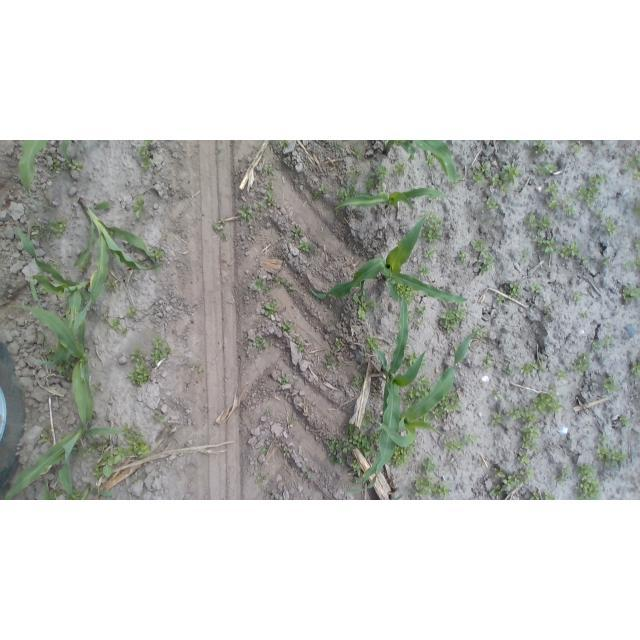Maize: (355, 329, 477, 483), (347, 296, 426, 492), (308, 214, 470, 302), (8, 297, 93, 428), (16, 227, 90, 366), (75, 197, 162, 312), (6, 427, 123, 500), (382, 140, 456, 181), (19, 141, 70, 196), (334, 188, 452, 210), (45, 479, 92, 500)
Weeds: (488, 465, 533, 496), (597, 434, 627, 467), (576, 464, 601, 501), (349, 424, 377, 456), (441, 307, 467, 334), (532, 392, 565, 413), (353, 294, 377, 320), (404, 386, 432, 406), (424, 213, 441, 243), (151, 337, 169, 365), (101, 449, 118, 478), (573, 350, 591, 376), (577, 186, 599, 207), (327, 439, 348, 461), (128, 437, 150, 456), (131, 365, 150, 387), (395, 283, 413, 306), (533, 162, 558, 177), (621, 285, 640, 304), (555, 465, 573, 484), (534, 238, 555, 253), (444, 439, 465, 454), (522, 426, 540, 443), (51, 219, 68, 237), (560, 243, 580, 258), (416, 479, 433, 496), (433, 485, 451, 500), (447, 392, 462, 410), (393, 448, 408, 466), (481, 352, 495, 371), (138, 145, 150, 167), (336, 187, 356, 200), (265, 299, 280, 316), (503, 165, 517, 183), (521, 439, 540, 452), (483, 252, 496, 271), (522, 361, 538, 376), (470, 239, 486, 254), (604, 376, 617, 393), (50, 157, 63, 174), (525, 214, 538, 231), (509, 283, 522, 300), (134, 196, 144, 218), (362, 409, 374, 427), (545, 183, 559, 198), (625, 155, 640, 169), (529, 492, 555, 500), (347, 374, 363, 387), (114, 446, 127, 462), (587, 173, 605, 184), (507, 407, 521, 421), (109, 317, 122, 332), (66, 159, 82, 171), (349, 166, 363, 179), (533, 141, 546, 155), (367, 338, 381, 351), (92, 467, 104, 482), (538, 216, 550, 231), (405, 352, 417, 367), (425, 458, 436, 474), (630, 360, 640, 377), (523, 411, 536, 424), (464, 433, 478, 445), (239, 206, 253, 218), (490, 173, 502, 187), (351, 146, 361, 162), (491, 413, 503, 426), (518, 452, 531, 464), (132, 348, 145, 360), (292, 226, 305, 238), (366, 178, 378, 191), (486, 197, 498, 210), (106, 279, 117, 293), (42, 431, 53, 445), (475, 325, 486, 339), (267, 188, 275, 206), (253, 337, 264, 350), (395, 163, 406, 176), (420, 265, 431, 278), (335, 337, 346, 350), (378, 165, 388, 179), (265, 164, 276, 176), (298, 242, 310, 253), (426, 247, 437, 259), (570, 142, 581, 154), (418, 376, 430, 387), (557, 370, 567, 383), (154, 413, 164, 426), (66, 357, 76, 370), (153, 248, 163, 261), (295, 339, 305, 352), (633, 199, 640, 217), (473, 173, 484, 184), (254, 278, 264, 290), (301, 467, 311, 479), (607, 221, 615, 236), (621, 414, 630, 427), (282, 372, 291, 385), (603, 336, 613, 347), (425, 155, 435, 166), (459, 253, 469, 264), (325, 356, 335, 367), (502, 367, 514, 376), (482, 161, 491, 173), (352, 459, 361, 471), (58, 364, 68, 374), (282, 322, 292, 332), (593, 338, 602, 349), (492, 390, 501, 401), (128, 309, 137, 320), (496, 294, 505, 305), (433, 409, 442, 420), (417, 304, 425, 316), (88, 443, 97, 453), (80, 449, 89, 459), (595, 209, 604, 219), (524, 247, 533, 257), (275, 276, 285, 285), (500, 183, 508, 194), (633, 169, 640, 181), (634, 256, 640, 270), (319, 185, 328, 194), (550, 202, 559, 211), (533, 284, 542, 293), (213, 224, 223, 232), (581, 309, 589, 319), (572, 293, 580, 303), (439, 398, 447, 408), (121, 327, 128, 337), (279, 140, 286, 150), (287, 284, 295, 292), (415, 318, 423, 326), (601, 259, 610, 266), (144, 141, 152, 148), (567, 207, 574, 215), (566, 195, 573, 203), (582, 255, 589, 263), (424, 415, 431, 423), (626, 260, 635, 266), (543, 307, 550, 314), (633, 241, 639, 249), (408, 311, 413, 318), (396, 317, 400, 322)
